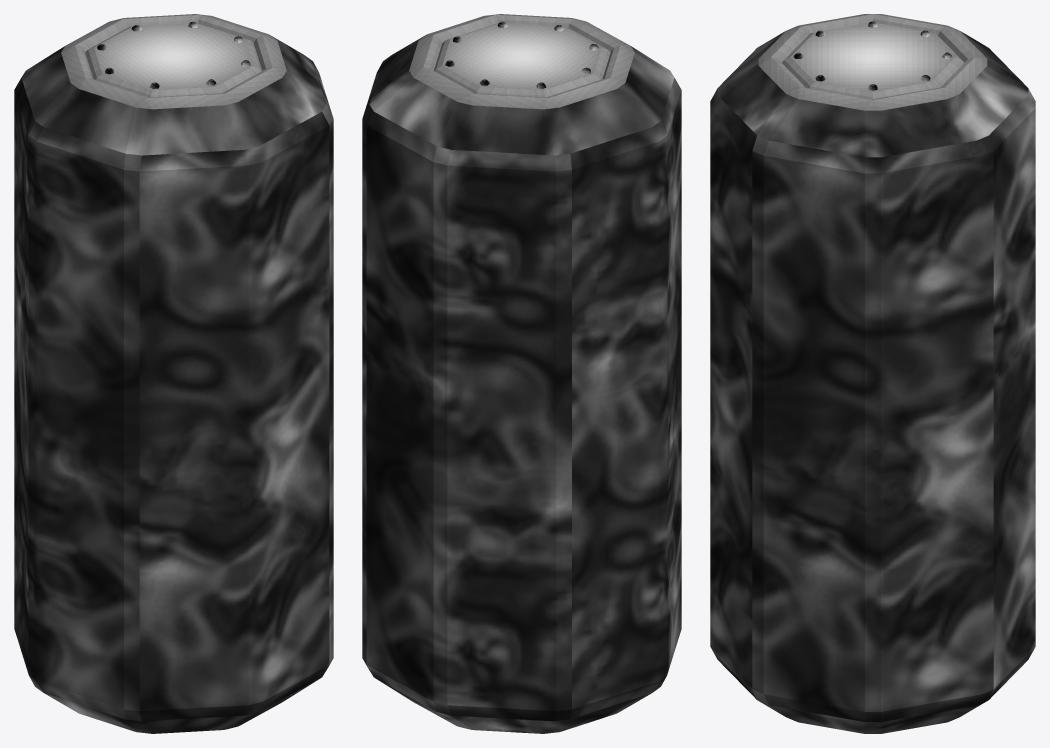
Rendered from StarDustRollingStepA.dae.
3 renders of one model, left to right at view 1: azimuth 30°, elevation 25°; view 2: azimuth 150°, elevation 25°; view 3: azimuth 270°, elevation 25°, orthographic.
Parts seen in each view (by area): view 1: m0, m1; view 2: m0, m1; view 3: m0, m1.
Part boxes in pixels (x1,y1,x2,y2): m0: (14, 35, 333, 733); m1: (61, 14, 286, 109); m0: (362, 35, 681, 733); m1: (409, 14, 634, 109); m0: (710, 31, 1035, 733); m1: (758, 14, 987, 110).
Bounding box in the file's own units: 745 × 1617 × 745.
4 materials, 4 textured.
